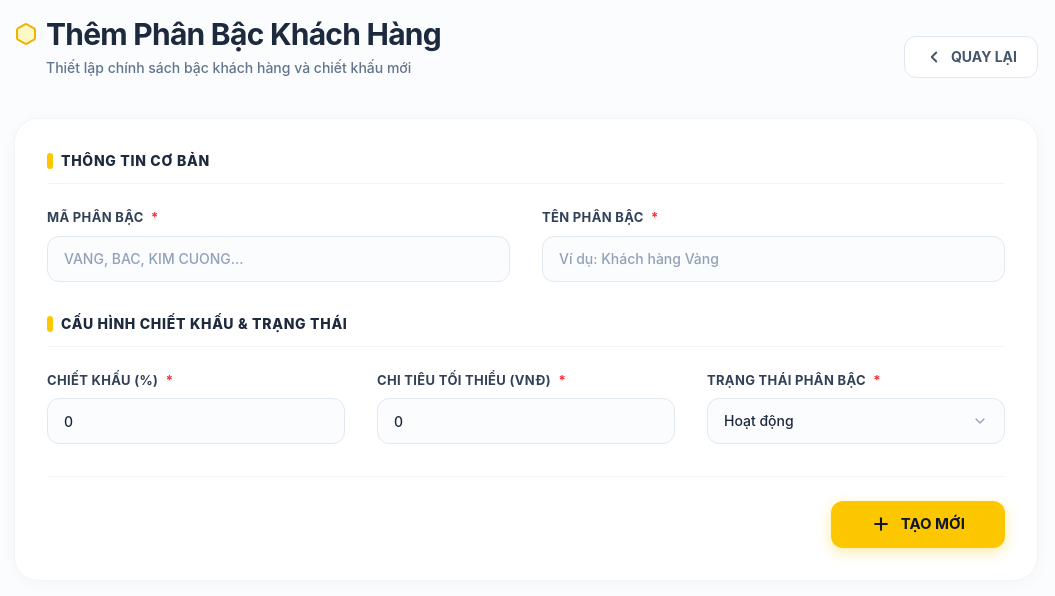
Test: Module 06 - CustomerTierForm Component › TC02 - Hiển thị lỗi validation khi submit dữ liệu trống
The width and height of the screenshot is (1055, 596).
Check: the heading "Thêm Phân Bậc Khách Hàng" is shown, box [46,16,441,52]
Click the button "TẠO MỚI" at (918, 524), box [831,501,1005,548]
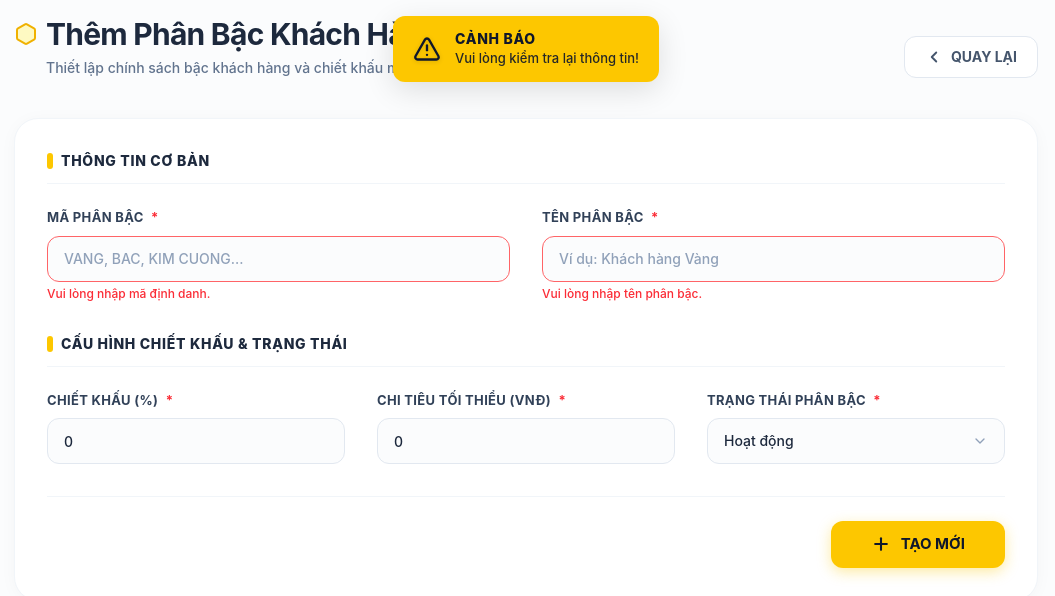
Check: the text "Vui lòng nhập mã định danh." is shown, box [47,286,210,300]
Check: the text "Vui lòng nhập tên phân bậc." is shown, box [542,286,702,300]
